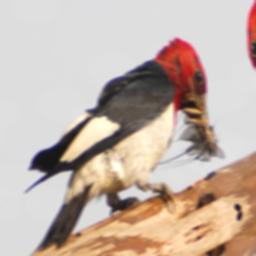Woodpecker: (8, 26, 228, 256)
